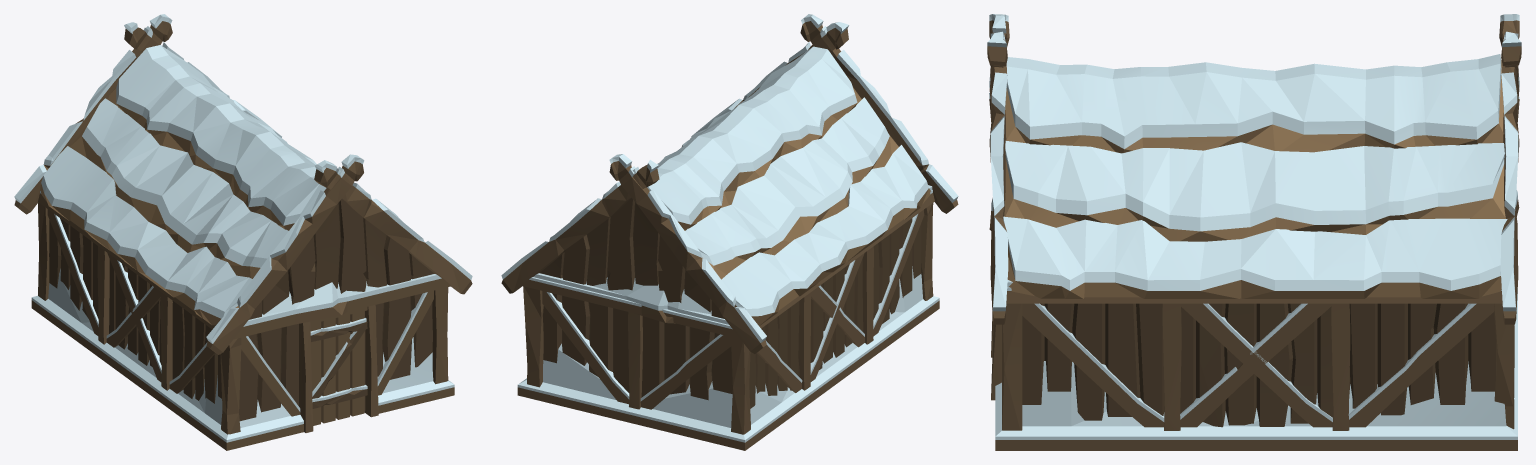
File: Casa_Larga04.glb
3 renders of one model, left to right at view 1: azimuth 30°, elevation 25°; view 2: azimuth 150°, elevation 25°; view 3: azimuth 270°, elevation 25°, orthographic. The views are drawn at different scales.
Parts seen in each view (by area): view 1: SM_Bld_Roof_Long_01_Snow, SM_Bld_Base_Long_Door_02_Snow; view 2: SM_Bld_Roof_Long_01_Snow, SM_Bld_Base_Long_Door_02_Snow; view 3: SM_Bld_Roof_Long_01_Snow, SM_Bld_Base_Long_Door_02_Snow.
Part boxes in pixels (x1,y1,x2,y2): SM_Bld_Roof_Long_01_Snow: (14,14,472,354); SM_Bld_Base_Long_Door_02_Snow: (31,191,454,450); SM_Bld_Roof_Long_01_Snow: (501,14,958,353); SM_Bld_Base_Long_Door_02_Snow: (517,190,939,450); SM_Bld_Roof_Long_01_Snow: (987,14,1521,324); SM_Bld_Base_Long_Door_02_Snow: (991,287,1517,450).
Size of the model in its own units: 5.28 by 5.06 by 6.93.
2 materials, 2 textured.
